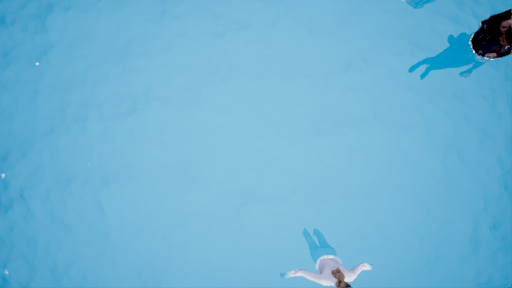person: (279, 218, 374, 285)
